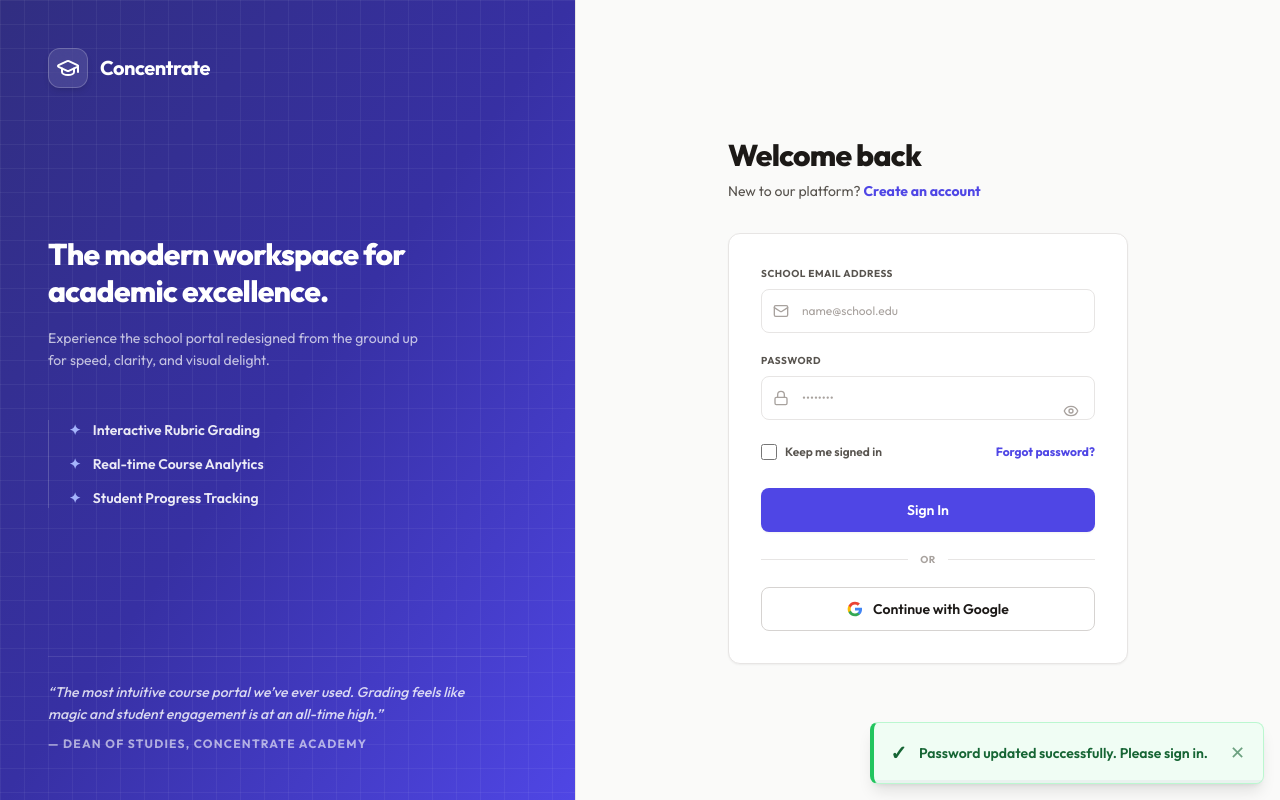
LoginPage › clears the toast without touching the URL when there is no oauth_error param
Expected: the text "Password updated successfully. Please sign in." is shown, 919,743 -> 1216,763
What coordinates should you click on to do the following:
click the button "✕"
I would click on:
 (1237, 753)
Its box is 1228,737 -> 1247,769.
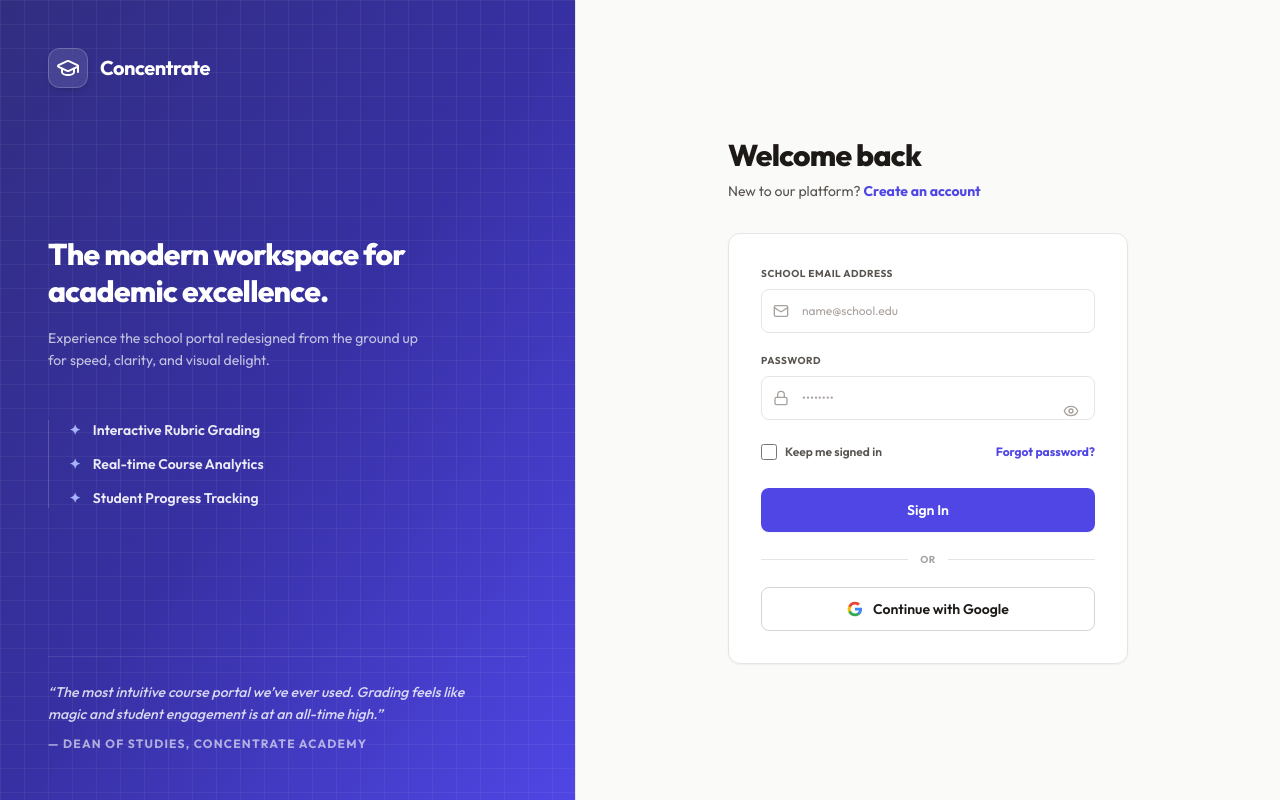
Result: the text "Password updated successfully. Please sign in." is gone
